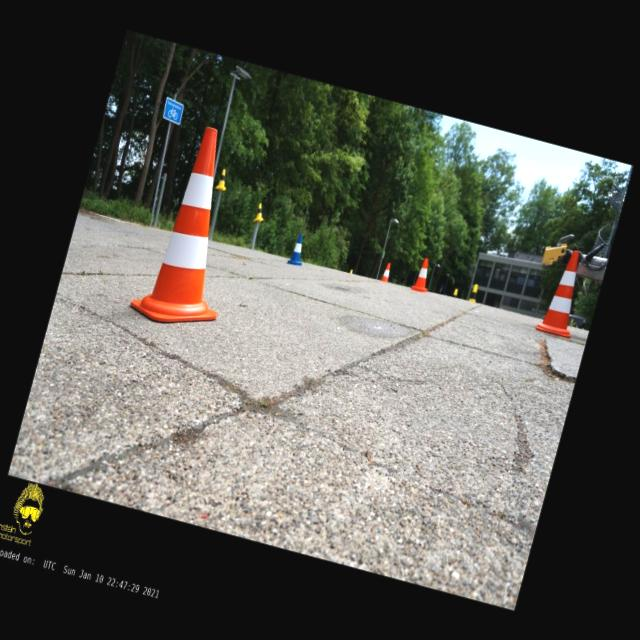blue_cone: (286, 232, 308, 266)
large_orange_cone: (128, 120, 262, 334), (534, 246, 592, 338)
orange_cone: (410, 256, 434, 293), (381, 262, 394, 282)
yellow_cone: (214, 168, 231, 192), (252, 202, 268, 223), (468, 283, 480, 302)
